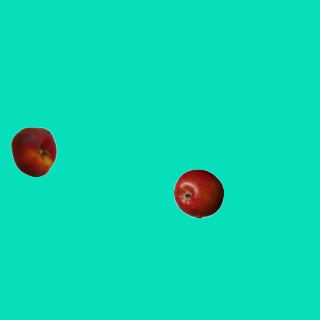Apple Braeburn: (173, 168, 223, 218)
Nectarine Flat: (8, 126, 58, 176)
